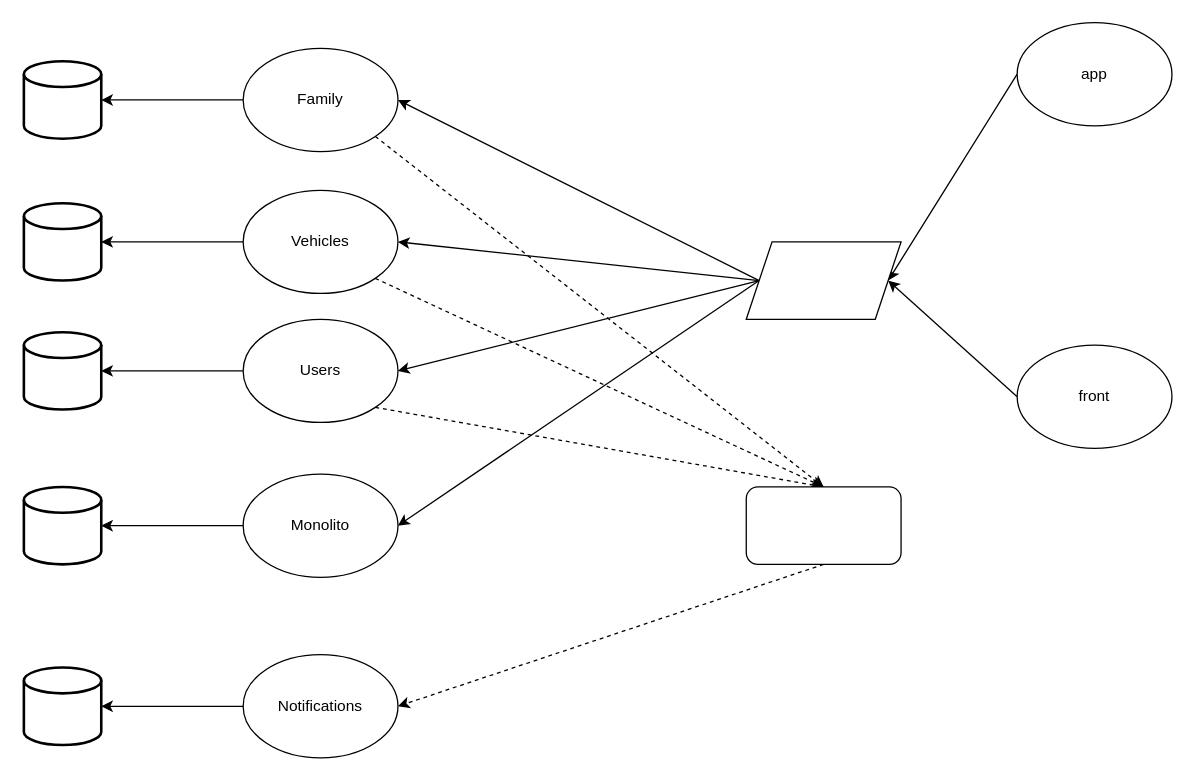
This 1195x780 diagram has some shape labels left out. The centre of each missing label's shape, as x and y in pixels:
"API Gateway" belongs at point 823,280.
"RabbitMQ" belongs at point 823,525.
